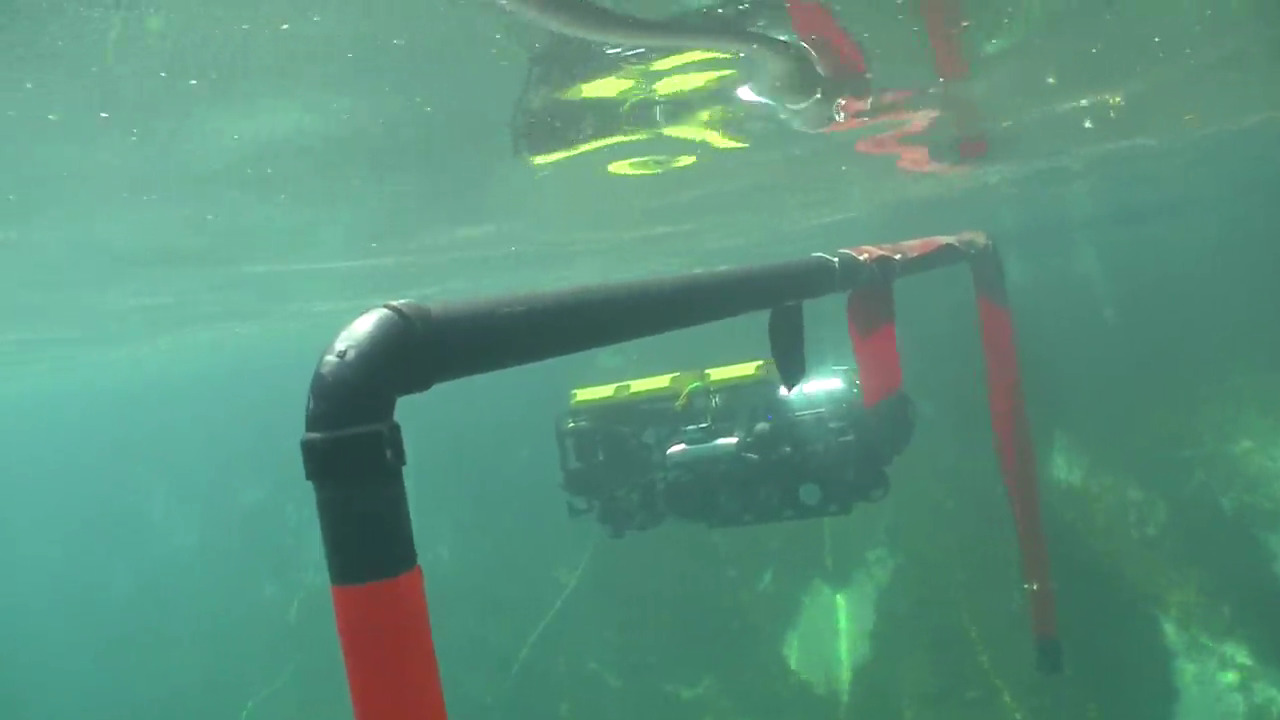gate: (285, 217, 1070, 720)
